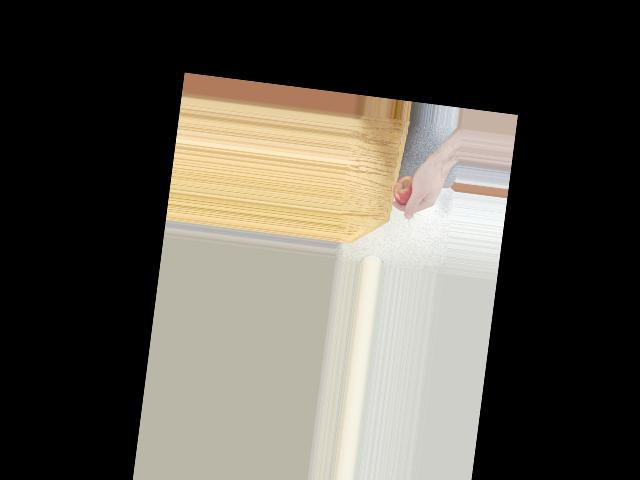apple: (390, 173, 420, 208)
